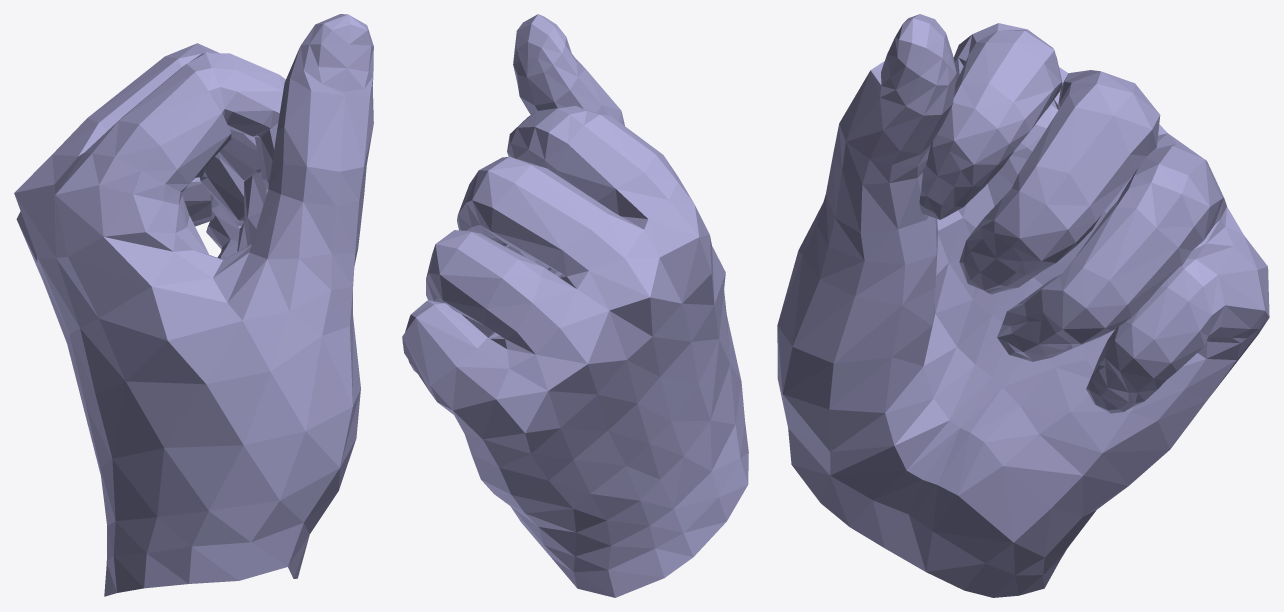
File: frame_0051_source_000051_hand.glb
3 renders of one model, left to right at view 1: azimuth 30°, elevation 25°; view 2: azimuth 150°, elevation 25°; view 3: azimuth 270°, elevation 25°, orthographic. The views are drawn at different scales.
Visible parts, largest first — view 1: world; view 2: world; view 3: world.
Part boxes in pixels (bbox=[...]): world: bbox=[14, 14, 373, 596]; world: bbox=[402, 14, 748, 597]; world: bbox=[777, 14, 1269, 597].
Bounding box in the file's own units: 0.0622 × 0.1275 × 0.0908.
